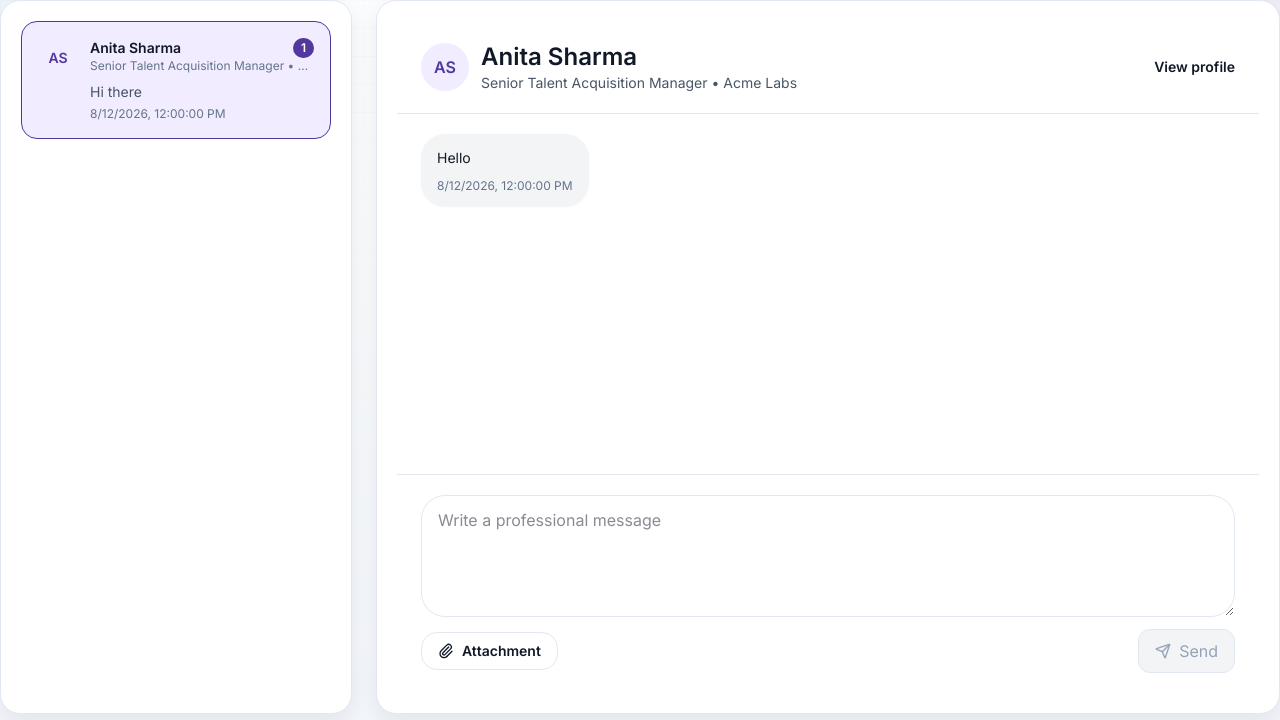
MessagesWorkspace › enables send when content is entered
In the text box named "message composer": (828, 556) [421,495,1235,617], type "Professional hello"
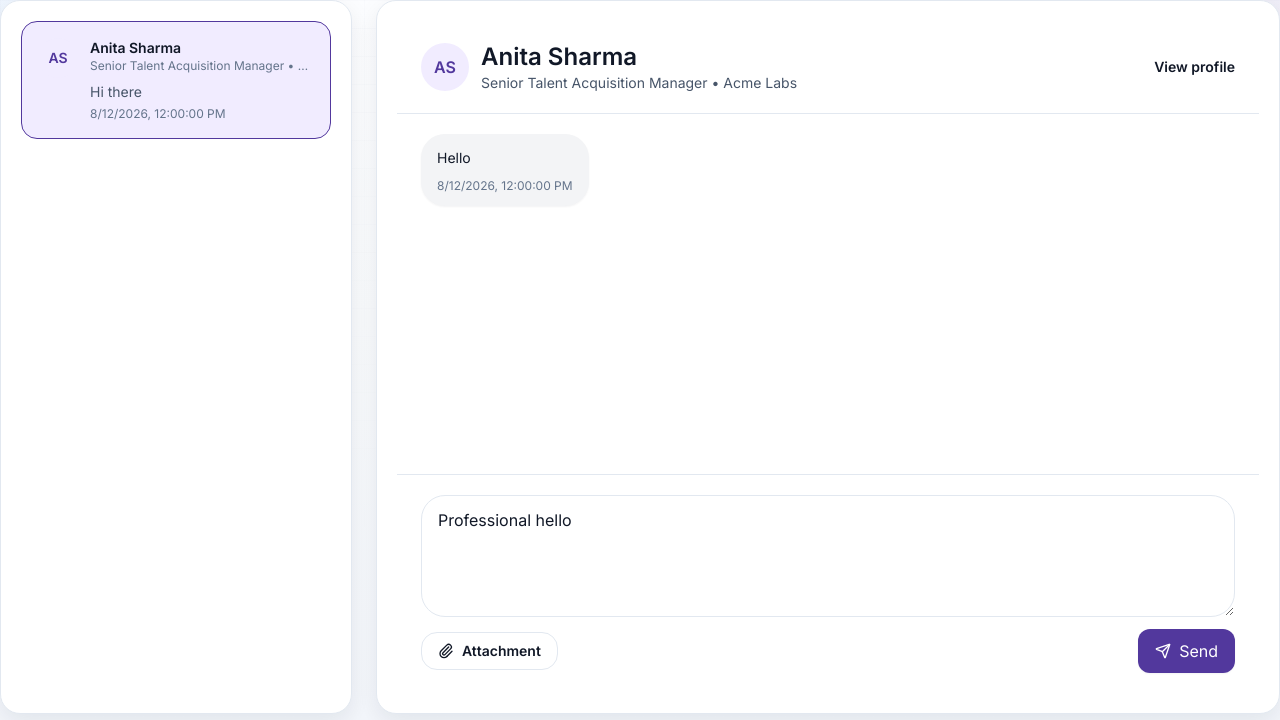
Check: the button "Send" is enabled, box [1138,629,1235,673]
